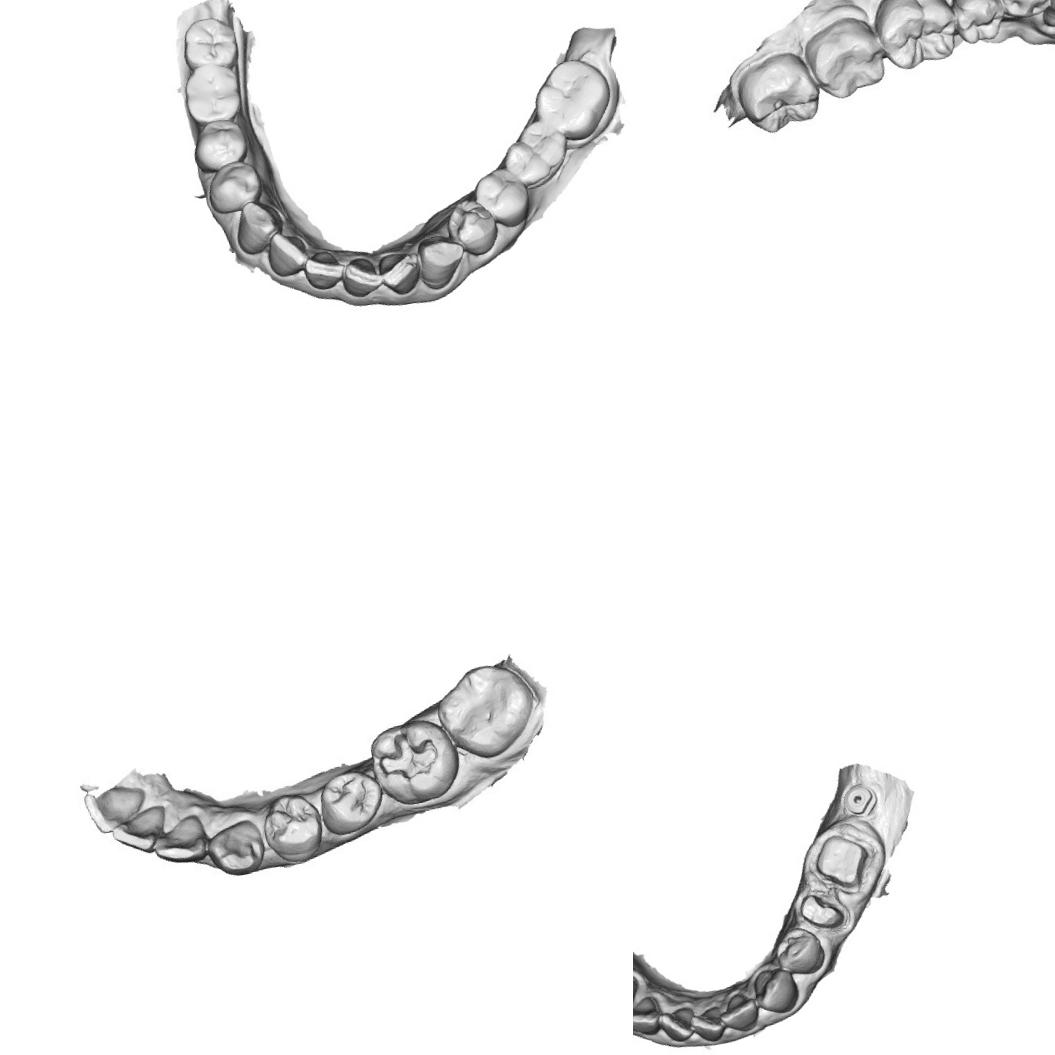canine: (200, 814, 270, 882), (229, 196, 287, 258), (413, 229, 470, 292), (750, 964, 802, 1018)
crown: (806, 826, 878, 898), (794, 886, 850, 935)
implant: (839, 778, 880, 820)
incisor: (79, 778, 151, 836), (105, 801, 170, 859), (146, 812, 212, 868), (262, 226, 312, 280), (376, 247, 424, 299), (299, 246, 348, 293), (715, 989, 761, 1036), (338, 253, 383, 301), (655, 1004, 698, 1047), (686, 1004, 728, 1044), (633, 993, 662, 1040)
inlay: (367, 724, 442, 788)
molar: (428, 651, 544, 764), (526, 52, 617, 145), (736, 50, 824, 138), (806, 11, 885, 98), (870, 0, 962, 69), (497, 115, 574, 190), (178, 56, 246, 126), (176, 12, 242, 76)
premolar: (307, 763, 390, 841), (254, 786, 328, 864), (470, 162, 534, 232), (442, 194, 502, 260), (186, 114, 252, 174), (202, 157, 266, 217), (770, 922, 828, 979), (951, 0, 1007, 44), (993, 0, 1051, 22)
